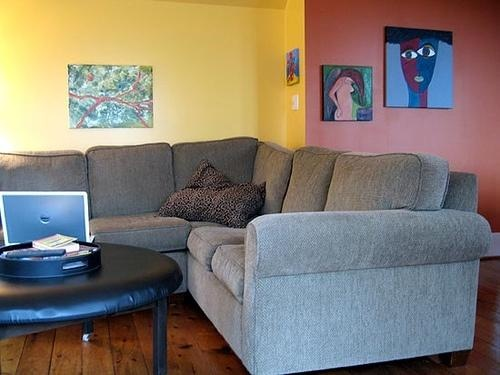sofa: (2, 136, 493, 375)
